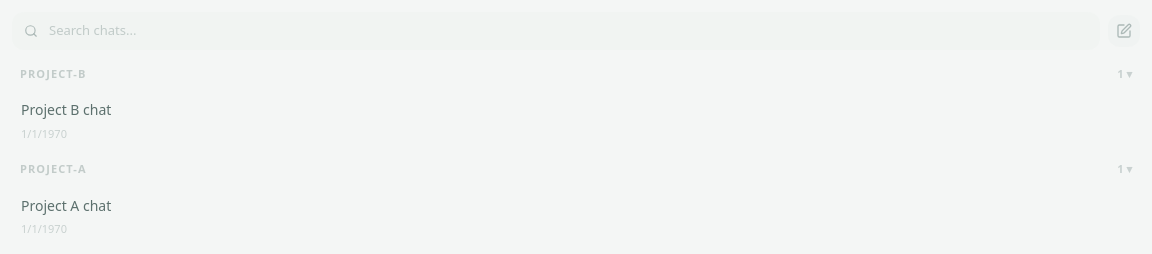
Test: SessionList project folders › renders sessions inside collapsible project folders
expect the button "project-b 1 ▾" is shown: met, box [8, 66, 1144, 82]
expect the button "Project A chat 1/1/1970" is shown: met, box [21, 194, 1131, 238]
What coordinates should you click on to do the following:
click the button "project-a 1 ▾"
I would click on:
 (53, 168)
Its box is [8, 161, 1144, 178].
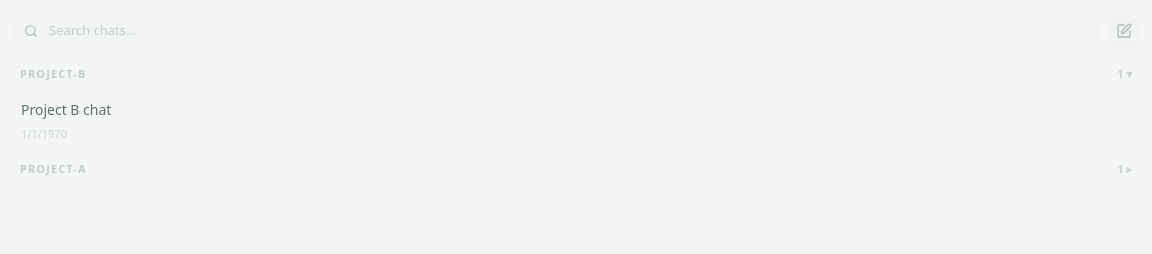
expect the button "Project B chat 1/1/1970" is shown: met, box [21, 99, 1131, 142]
expect the button "Project A chat" is gone: met
